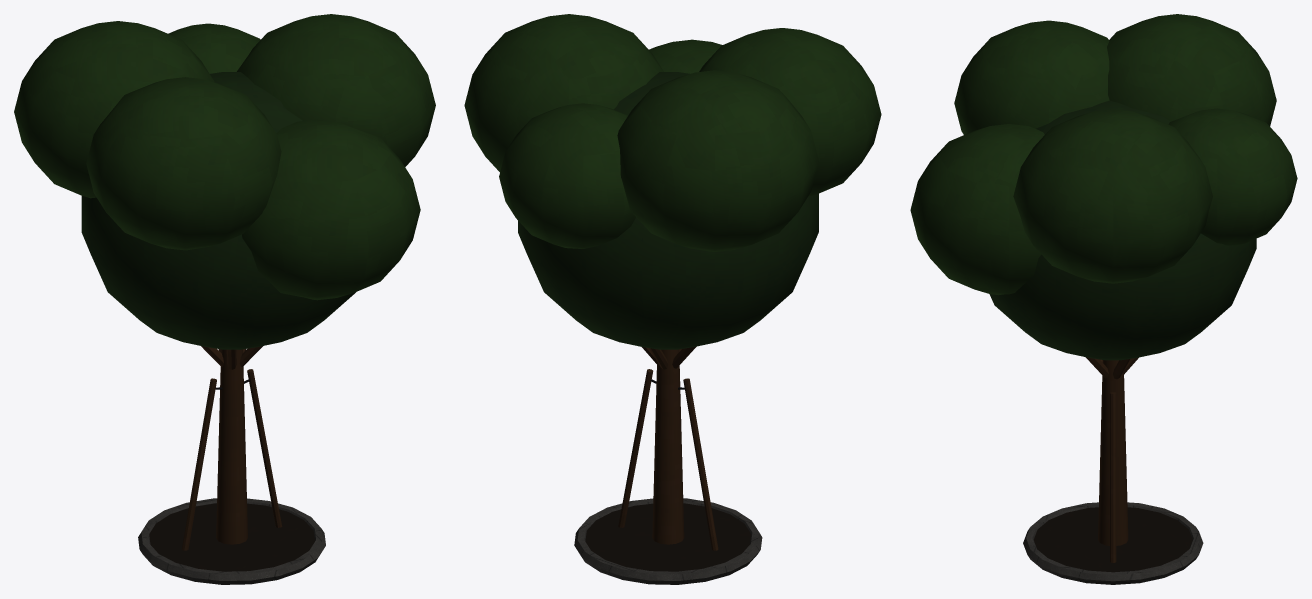
File: fac_tree.glb
3 views of the same model, side by side, from view 1: azimuth 30°, elevation 25°; view 2: azimuth 150°, elevation 25°; view 3: azimuth 270°, elevation 25° (orthographic). The views are drawn at different scales.
Parts seen in each view (by area): view 1: FAC_TREE; view 2: FAC_TREE; view 3: FAC_TREE.
Part boxes in pixels (left/top/right/bottom): FAC_TREE: left=14, top=14, right=435, bottom=584; FAC_TREE: left=464, top=14, right=881, bottom=584; FAC_TREE: left=910, top=14, right=1297, bottom=584.
Size of the model in its own units: 4.36 by 5.91 by 4.25.
Materials: 6 (6 with a texture image).
